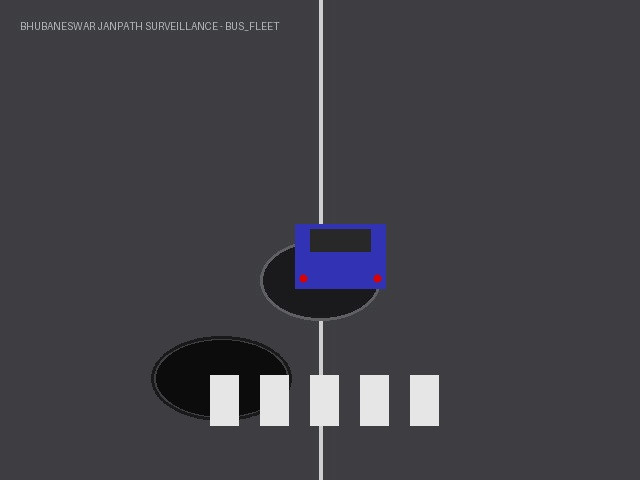pothole: (156, 340, 286, 416)
vehicle: (295, 223, 385, 288)
zebra_crossing: (190, 370, 450, 430)
